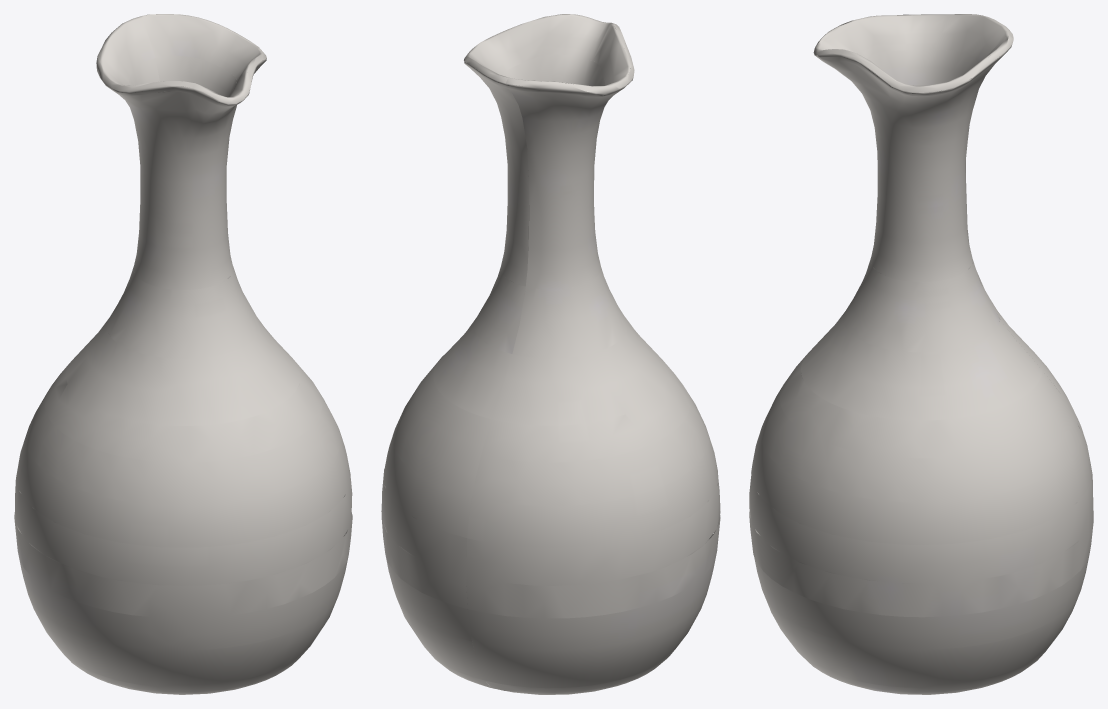
Rendered from ceramic_vase_01.glb.
3 views of the same model, side by side, from view 1: azimuth 30°, elevation 25°; view 2: azimuth 150°, elevation 25°; view 3: azimuth 270°, elevation 25° (orthographic).
Parts seen in each view (by area): view 1: ceramic_vase_01; view 2: ceramic_vase_01; view 3: ceramic_vase_01.
Part boxes in pixels (left/top/right/bottom): ceramic_vase_01: left=14, top=14, right=352, bottom=694; ceramic_vase_01: left=381, top=14, right=720, bottom=694; ceramic_vase_01: left=749, top=14, right=1093, bottom=694.
Bounding box in the file's own units: 0.2035 × 0.4004 × 0.2036.
1 material, 1 textured.
